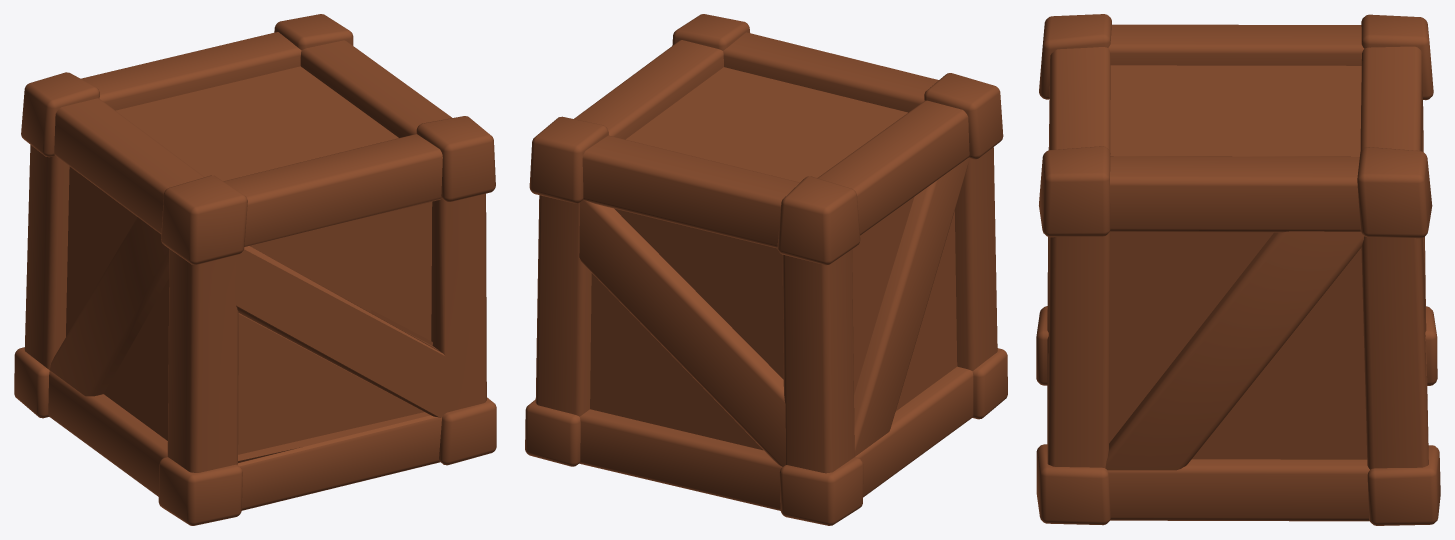
File: SM_Crate.fbx
3 views of the same model, side by side, from view 1: azimuth 30°, elevation 25°; view 2: azimuth 150°, elevation 25°; view 3: azimuth 270°, elevation 25° (orthographic). The views are drawn at different scales.
Parts seen in each view (by area): view 1: SM_Crate; view 2: SM_Crate; view 3: SM_Crate.
Part boxes in pixels (x1,y1,x2,y2): SM_Crate: (14,14,496,525); SM_Crate: (525,14,1007,525); SM_Crate: (1036,14,1440,525).
Bounding box in the file's own units: 43.26 × 42.21 × 43.59.
